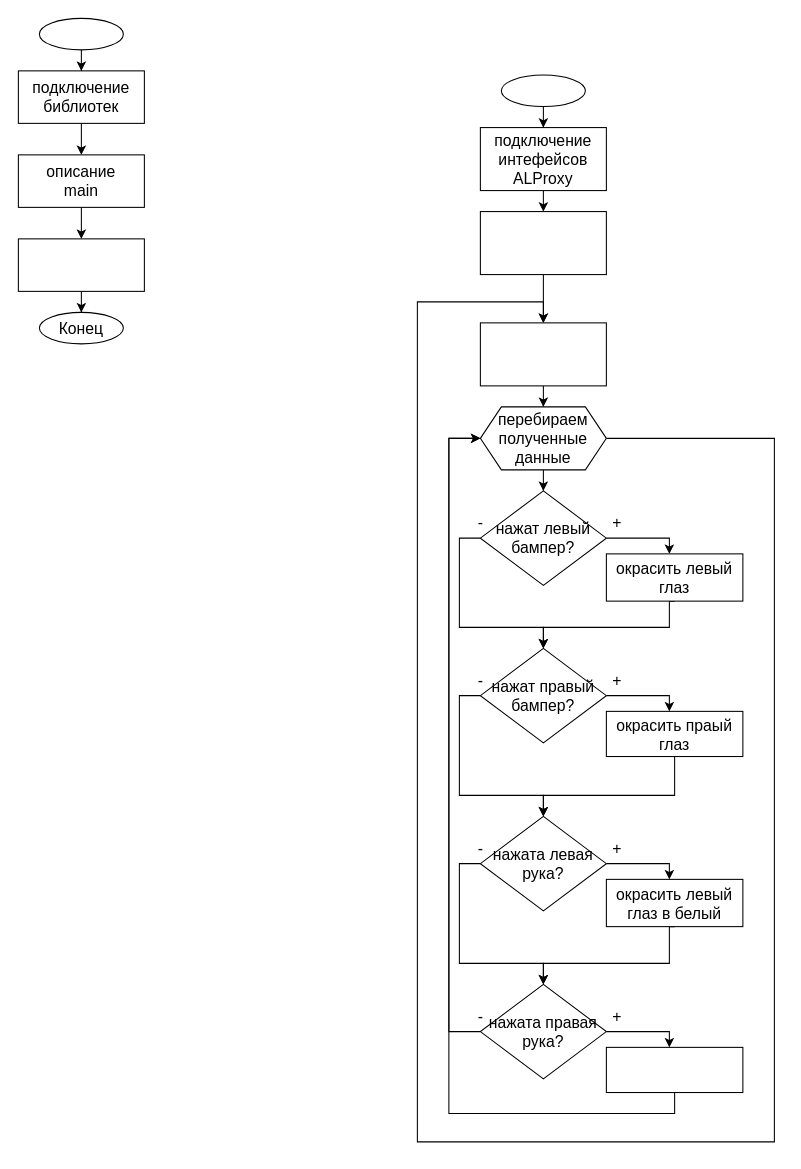
This 801x1169 diagram has some shape labels left out. Each missing label, with the centre of its shape:
main: pixel 542 90
запуск блока main: pixel 80 264
Начало: pixel 80 33
окрасить праый глаз в белый: pixel 674 1069
получаем состояния сенсоров: pixel 542 354
сброс LED в состояние по умолчанию: pixel 542 243
